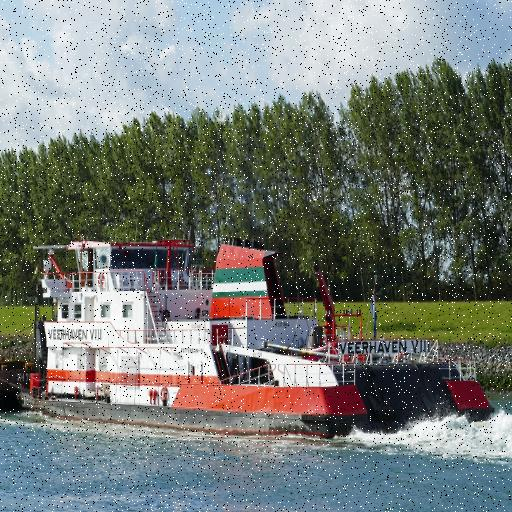tugboat: (17, 234, 501, 455)
